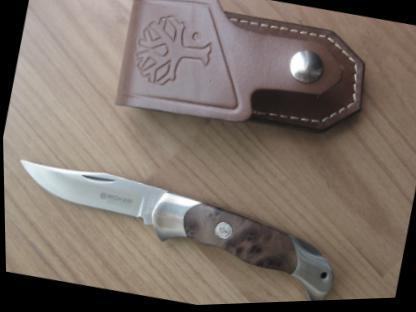knife: (2, 139, 352, 311)
